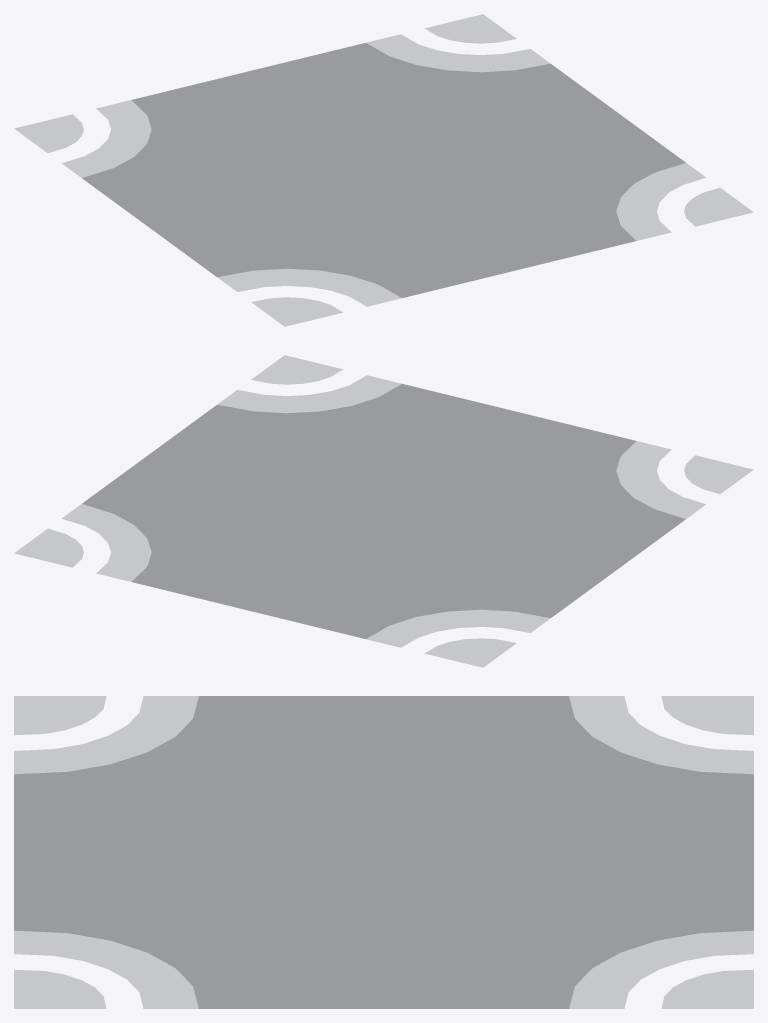
Rendered from Ceiling_type_A_022.glb.
The picture shows the model from 3 angles, top to bottom: view 1: azimuth 30°, elevation 25°; view 2: azimuth 150°, elevation 25°; view 3: azimuth 270°, elevation 25°; orthographic projection. The views are drawn at different scales.
Parts seen in each view (by area): view 1: Ceiling_type_A_022; view 2: Ceiling_type_A_022; view 3: Ceiling_type_A_022.
Boxes of the visible parts, x1,y1,x2,y2 form: Ceiling_type_A_022: (14, 14, 753, 326); Ceiling_type_A_022: (14, 355, 753, 667); Ceiling_type_A_022: (14, 696, 753, 1008).
Bounding box in the file's own units: 4 × 0.0571 × 4.
2 materials, 2 textured.
